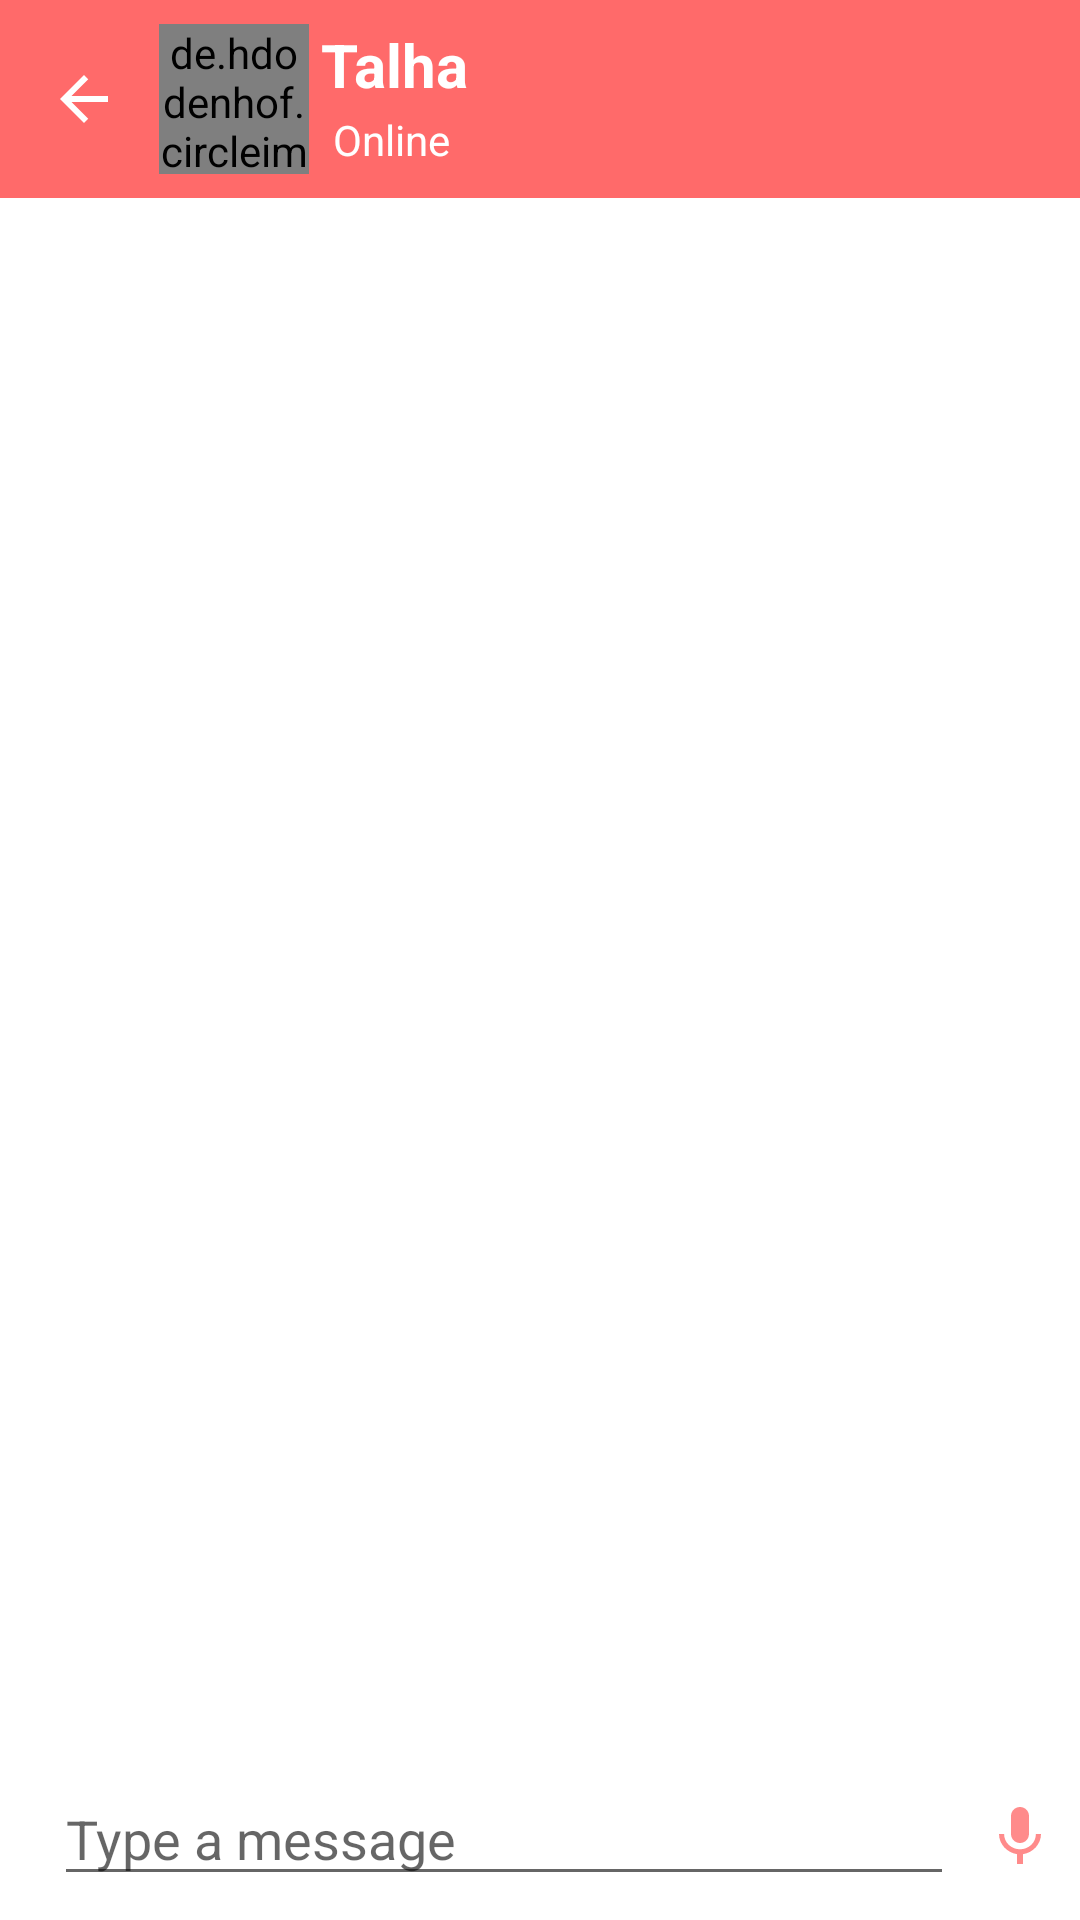

Icons on this 1080px x 1920px Android screen, each with the point to tap as (x=x, y=y):
Back: (x=84, y=99)
